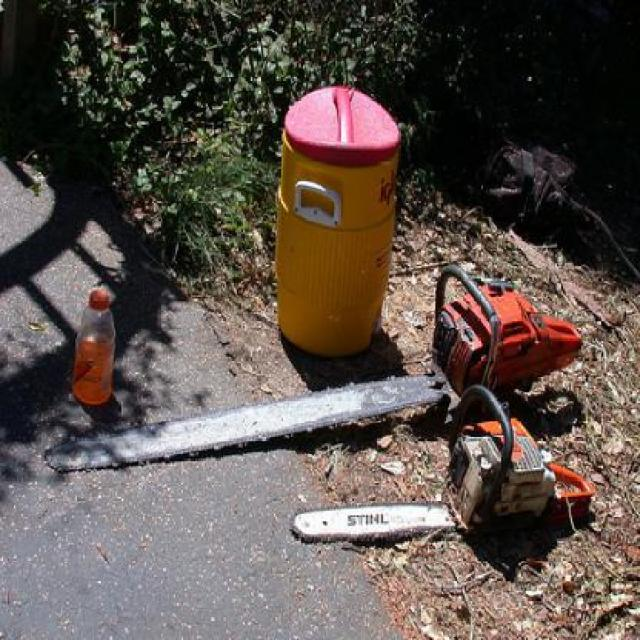Chainsaw: (45, 259, 580, 478), (288, 387, 594, 541)
